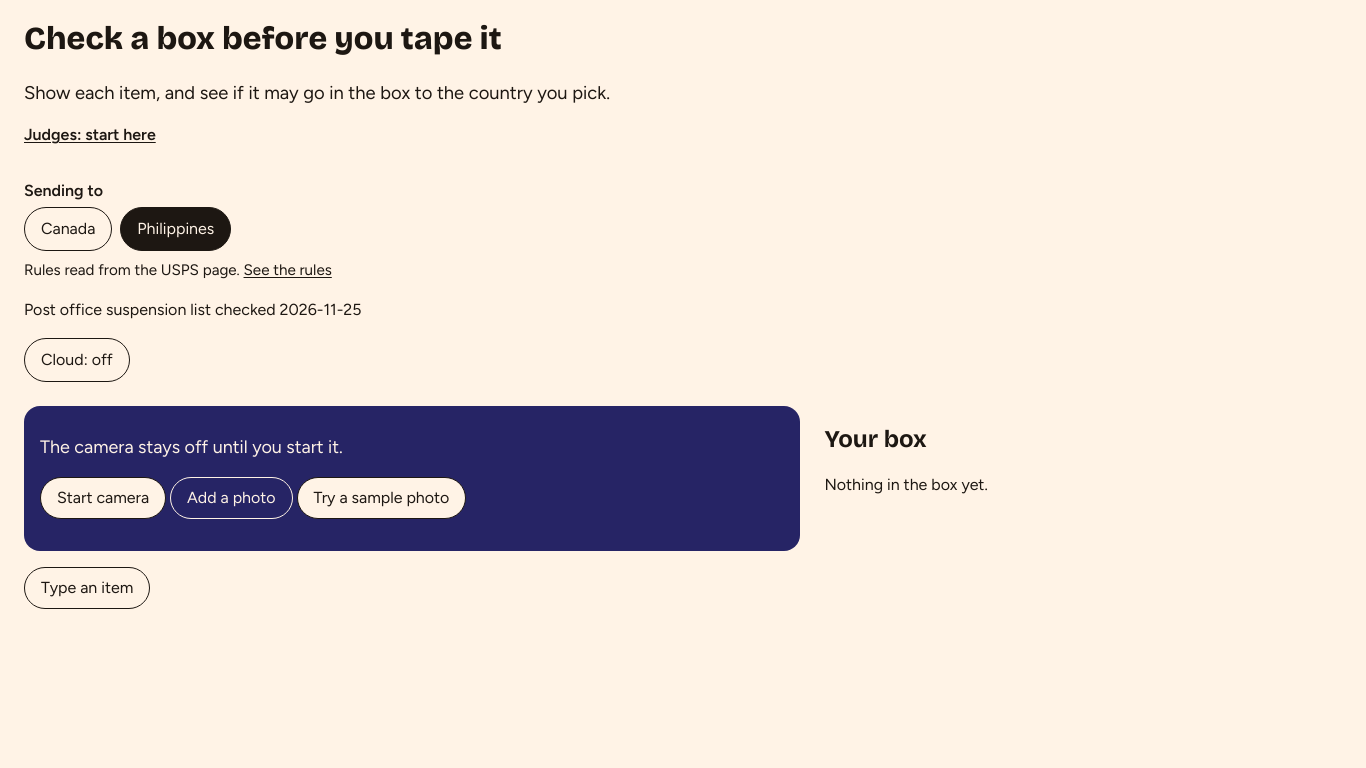
PackPage › puts focus back on the cloud chip once the question is answered
The image size is (1366, 768).
Click the button with test id "cloud-chip".
click(77, 360)  # box [24, 338, 130, 382]
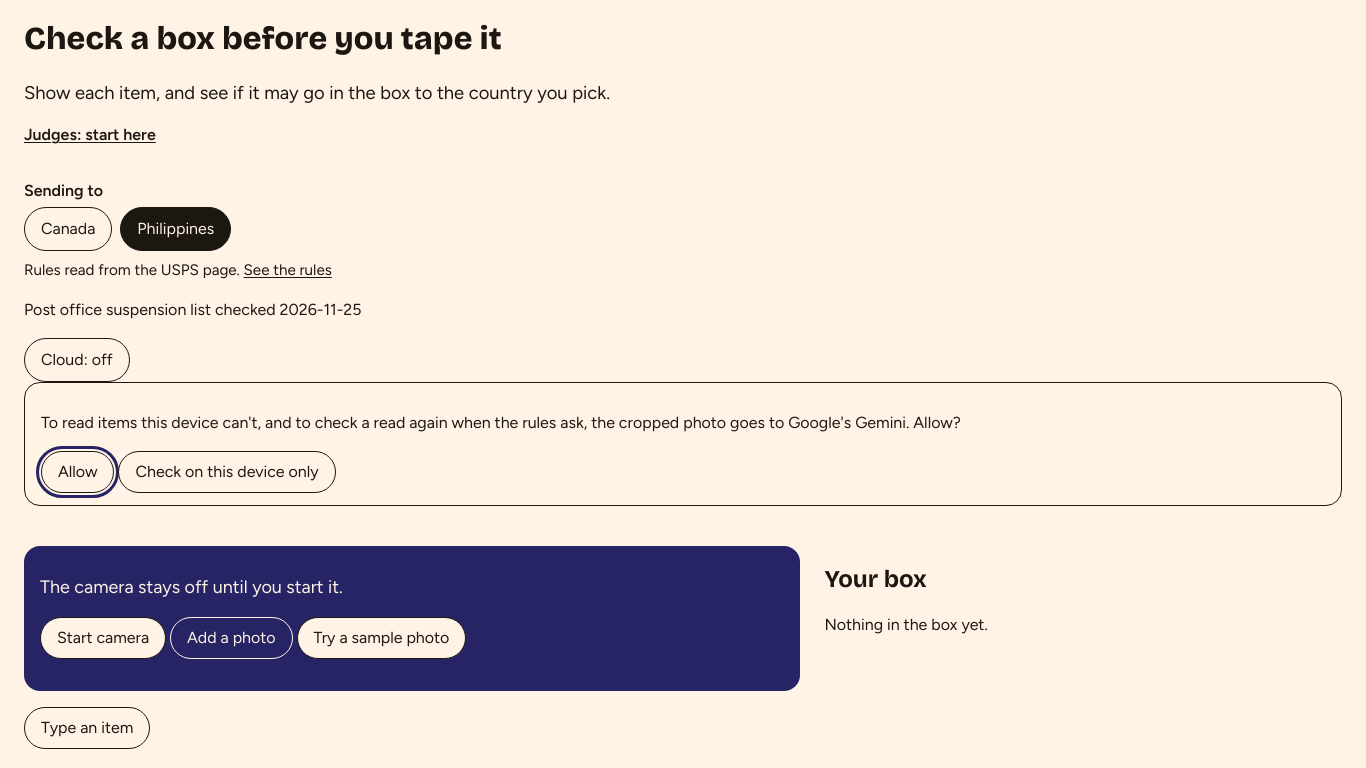
Press Enter
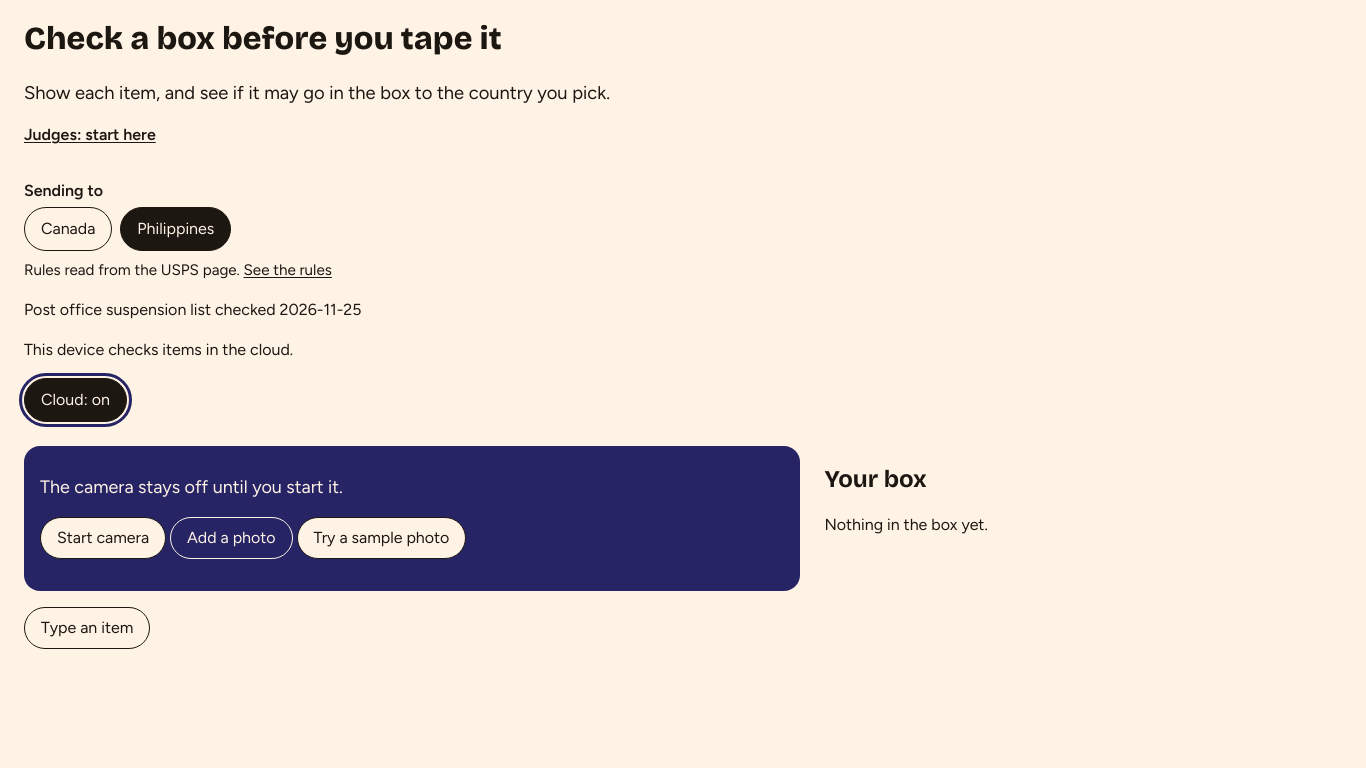
Expected: the button with test id "cloud-chip" reads "Cloud: on", [24, 378, 127, 422]
